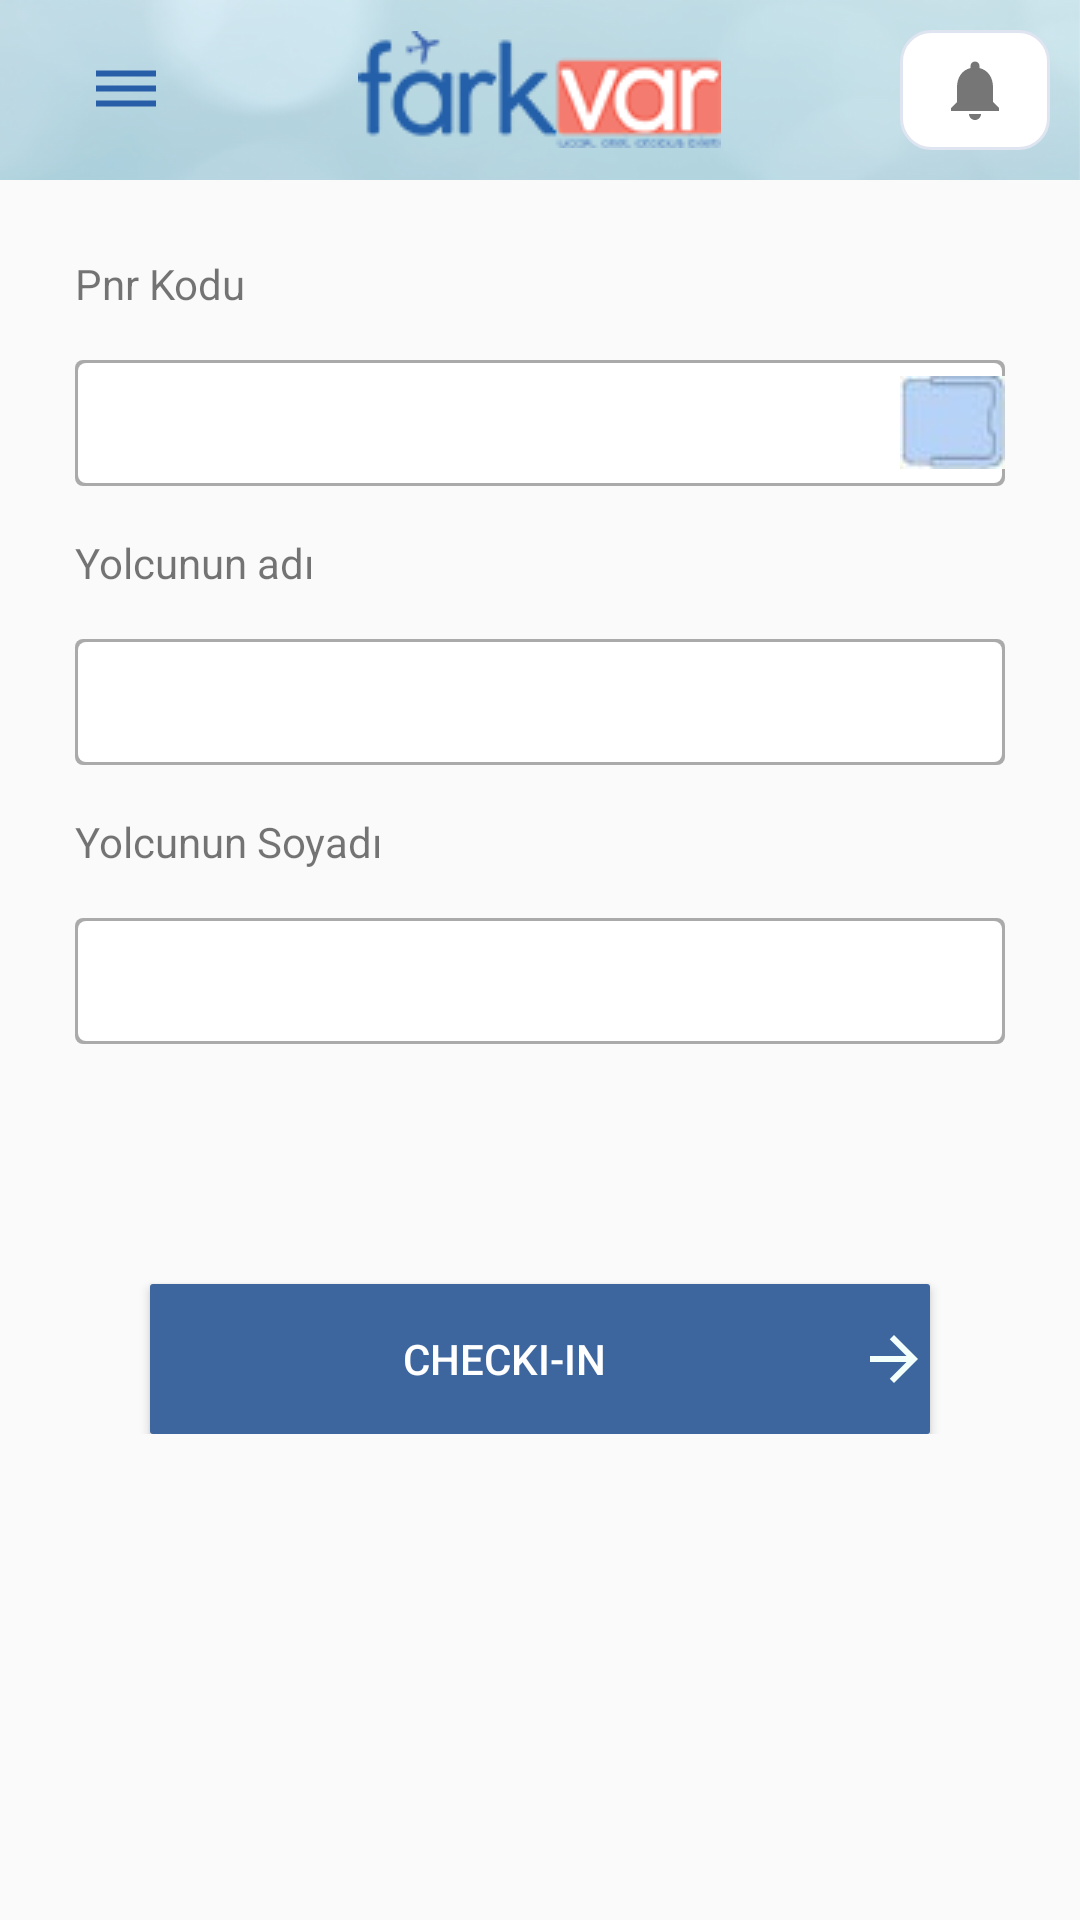

Icons on this 1080px x 1920px Android screen, each with the point to tap as (x,y):
hamburger menu: (126,88)
notifications: (975,90)
